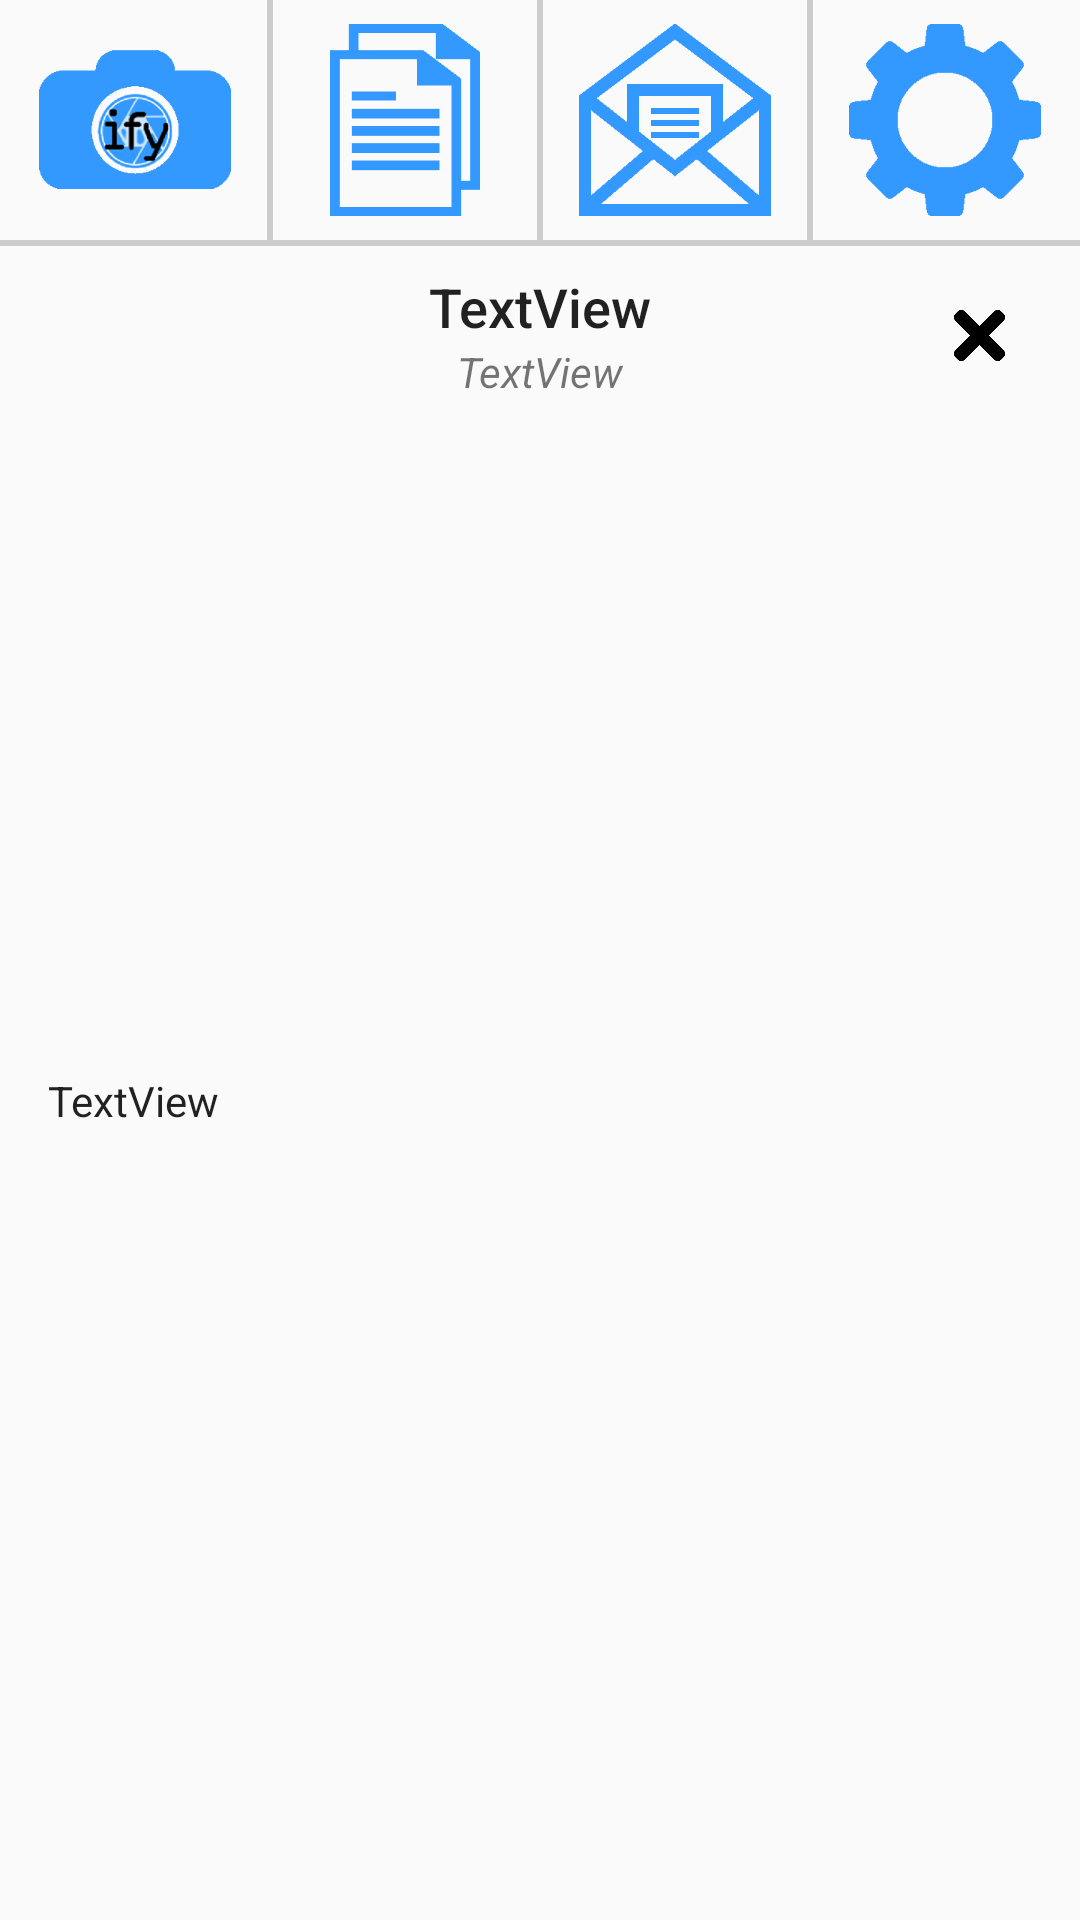

Point at icon controls on the screen. Image size 1080×1920, points as [x,y].
camera: [133,120]
close: [979,335]
file: [405,120]
gear: [946,120]
